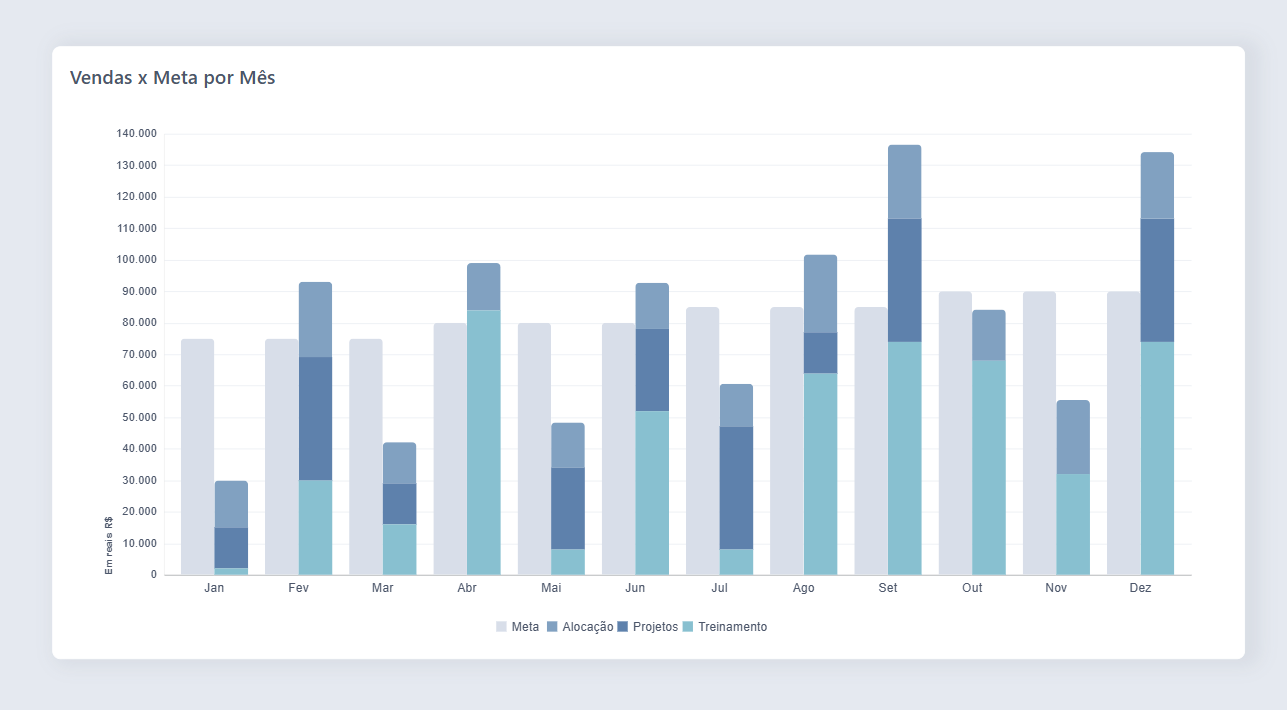

This screenshot's page, from the dashboard's own definition file:
{"tool":"powerbi","page":{"name":"Page 1","canvas":[1280,720],"ordinal":0},"visuals":[{"type":"deneb7E15AEF80B9E4D4F8E12924291ECE89A","title":"Vendas x Meta por Mês","fields":{"dataset":["dCalendario.Mes","dCalendario.MesDeneb","Medidas.Meta","Medidas.Total Vendas","fVendas.Categoria"]},"box":[64,64,1152,592],"z":0}]}

Visuals, with their boxes in screenshot pixels (x1, y1, x2, y2), scaled from the page's 1280x720 canvas onto the 1287x710 screenshot:
"Vendas x Meta por Mês" deneb7E15AEF80B9E4D4F8E12924291ECE89A: 64,63,1223,647
